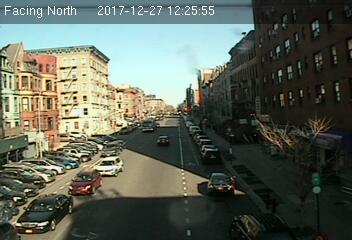car: (15, 195, 73, 233), (231, 212, 289, 240), (67, 168, 101, 195), (206, 172, 234, 198), (97, 158, 123, 178), (99, 142, 122, 156), (201, 148, 221, 161), (156, 135, 170, 144)
